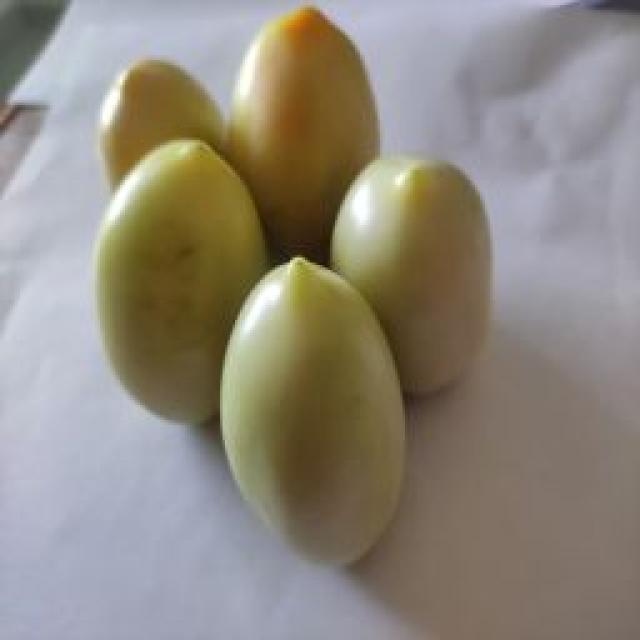tomato: (220, 252, 403, 570), (95, 139, 267, 428), (332, 148, 488, 396), (232, 8, 378, 272), (96, 58, 224, 212)
